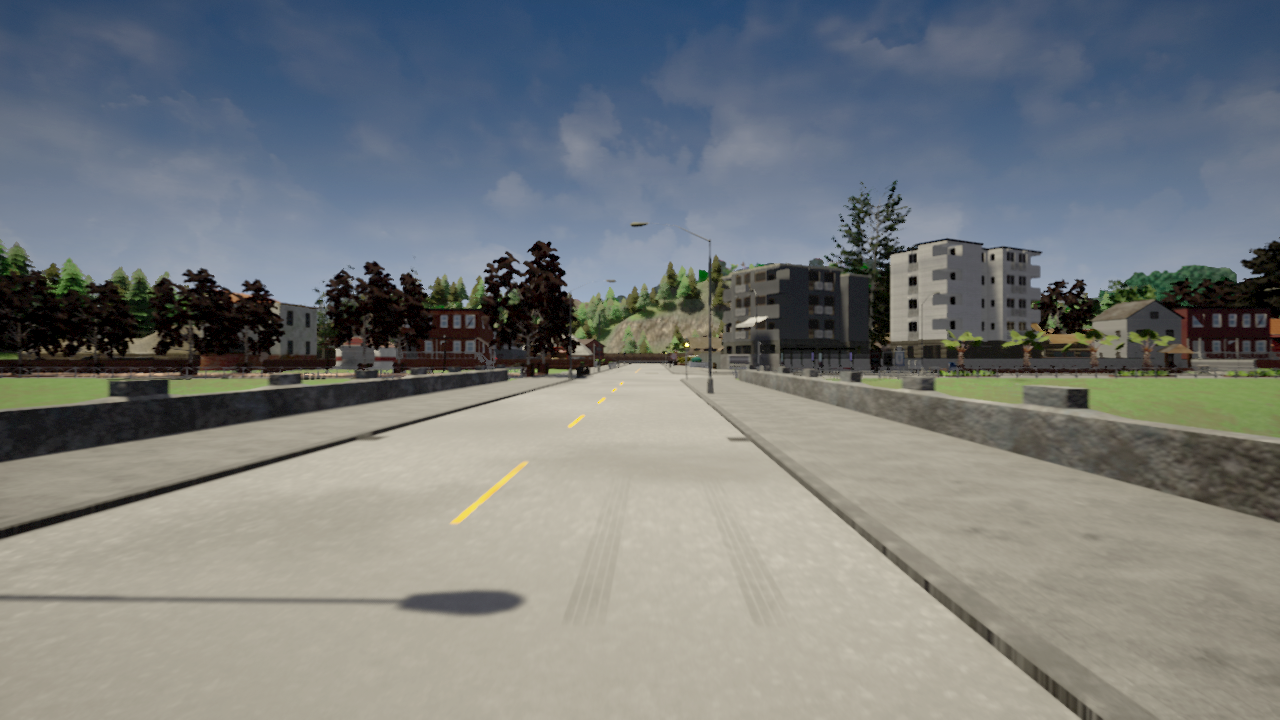yellow: (683, 338, 690, 351)
